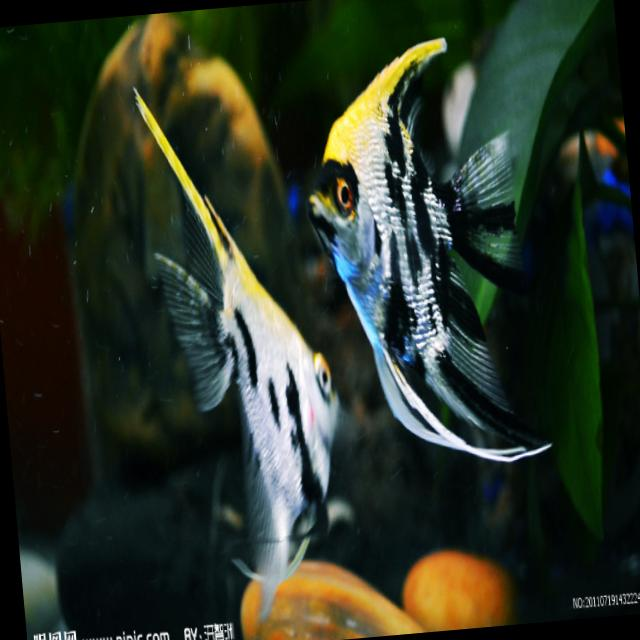AngelFish: (132, 73, 355, 624), (296, 24, 554, 484)
